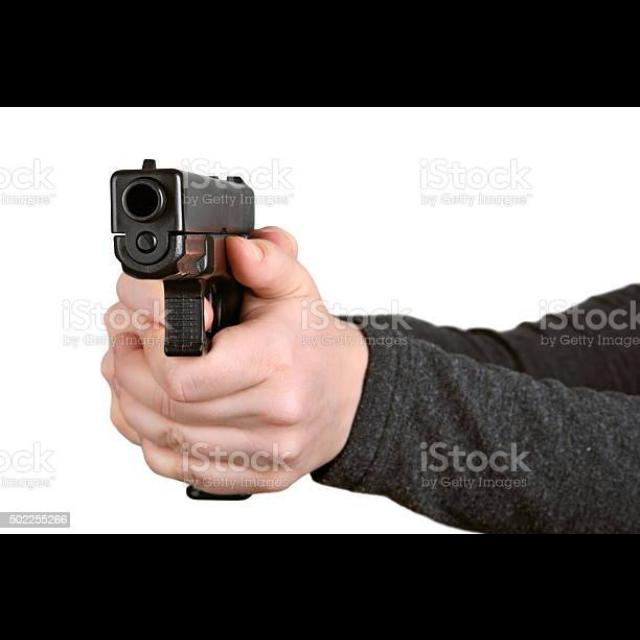handgun: (106, 154, 258, 360)
